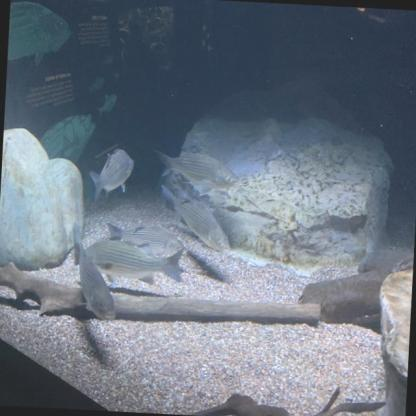fish: (156, 178, 234, 255), (80, 234, 187, 290), (65, 224, 122, 326), (152, 143, 243, 192), (103, 218, 187, 262), (87, 146, 137, 204)
